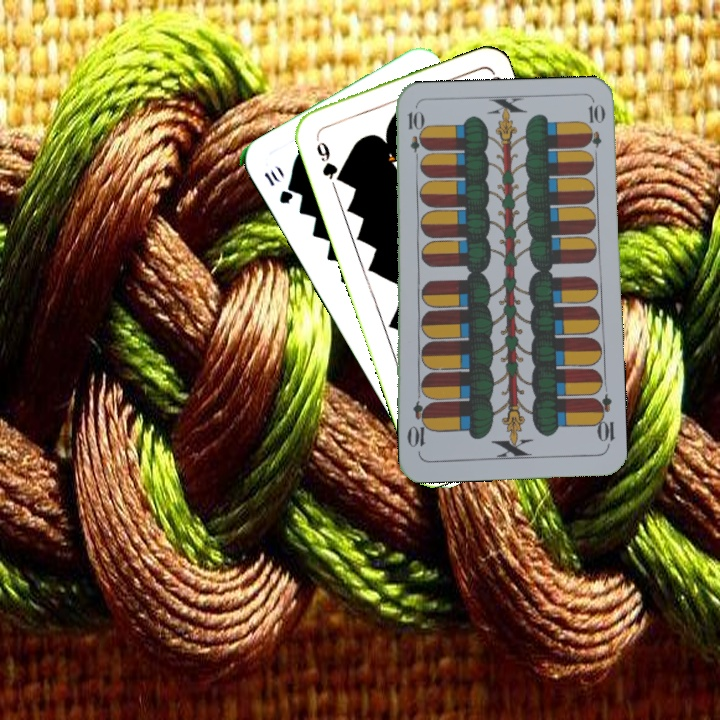E10: (590, 391, 617, 450), (404, 107, 423, 166)
G10: (259, 164, 296, 207)
G9: (311, 131, 345, 185)
